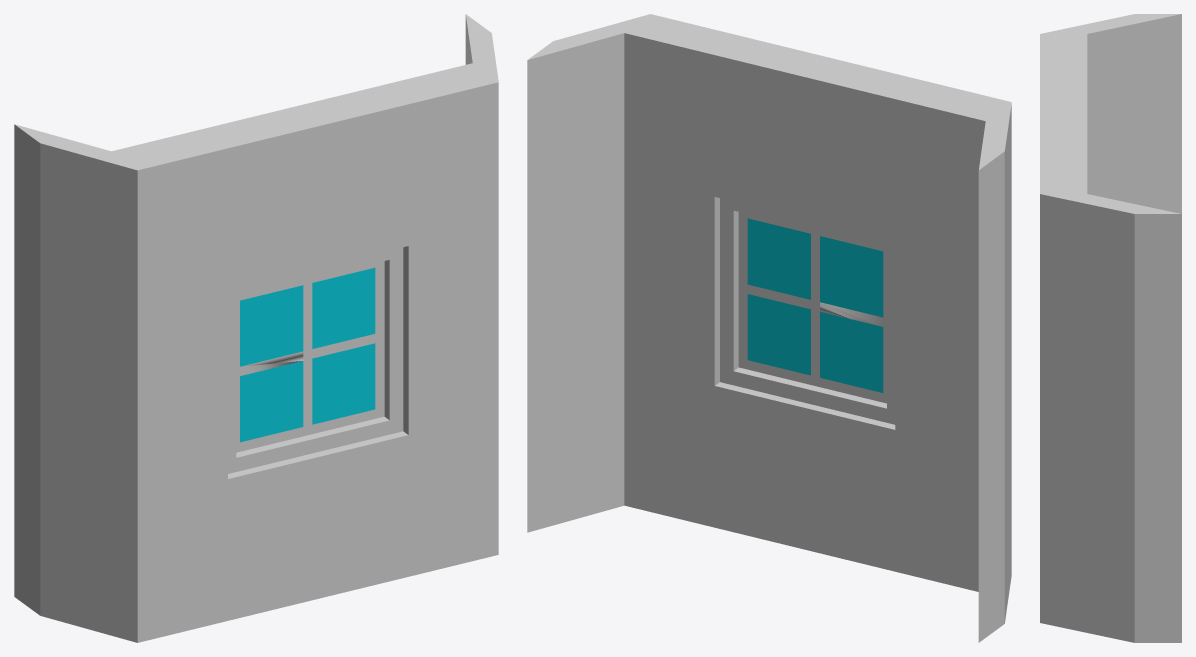
The model's file is window_bay_1.glb.
3 views of the same model, side by side, from view 1: azimuth 30°, elevation 25°; view 2: azimuth 150°, elevation 25°; view 3: azimuth 270°, elevation 25° (orthographic). The views are drawn at different scales.
Visible parts, largest first — view 1: window_bay_1; view 2: window_bay_1; view 3: window_bay_1.
Part boxes in pixels (x1=…): window_bay_1: x1=14, y1=14, x2=498, y2=642; window_bay_1: x1=527, y1=14, x2=1011, y2=642; window_bay_1: x1=1040, y1=14, x2=1181, y2=642.
Size of the model in its own units: 1 by 1 by 0.3.
